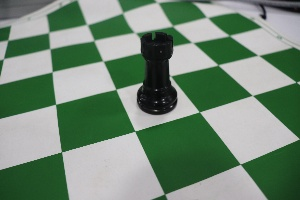black_rook: (122, 20, 182, 119)
